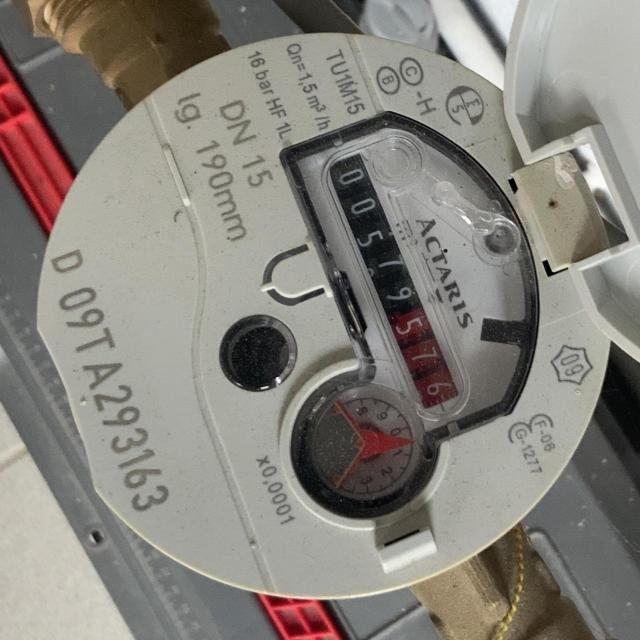gaz_meter: (37, 32, 612, 603)
indication: (323, 153, 465, 410)
